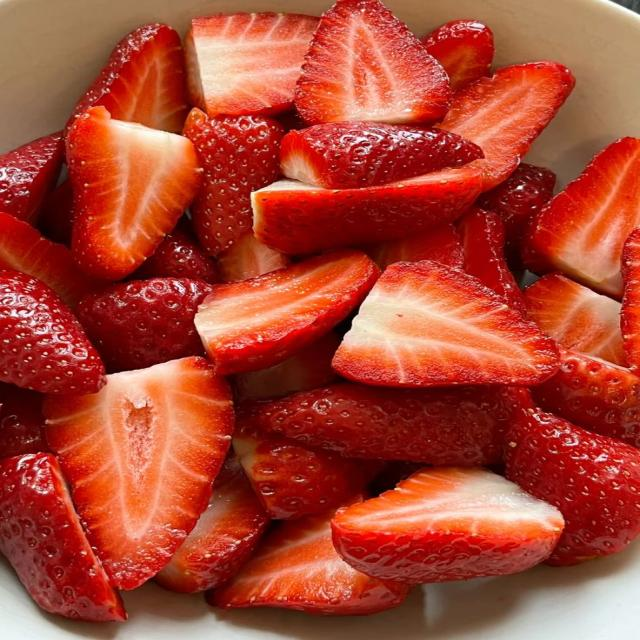strawberry sliced: (44, 358, 233, 589), (334, 261, 558, 386), (333, 467, 563, 583), (239, 383, 530, 466), (67, 107, 201, 280), (195, 250, 379, 375), (207, 510, 409, 615), (0, 454, 126, 622), (252, 166, 482, 255), (506, 411, 639, 564), (295, 0, 451, 124), (523, 138, 639, 296), (439, 62, 574, 191), (156, 458, 269, 593), (184, 109, 284, 255), (234, 415, 373, 519), (280, 122, 483, 189), (186, 13, 318, 116), (0, 270, 105, 394), (67, 24, 187, 132), (78, 278, 211, 372), (534, 349, 639, 448), (525, 273, 626, 365), (0, 213, 98, 307), (477, 164, 556, 266), (234, 331, 341, 401), (458, 208, 524, 312), (0, 133, 64, 223), (132, 220, 219, 283), (423, 20, 494, 91), (364, 223, 464, 270), (217, 231, 291, 282), (0, 383, 48, 458), (620, 228, 639, 373), (38, 179, 73, 247), (276, 109, 306, 132)
